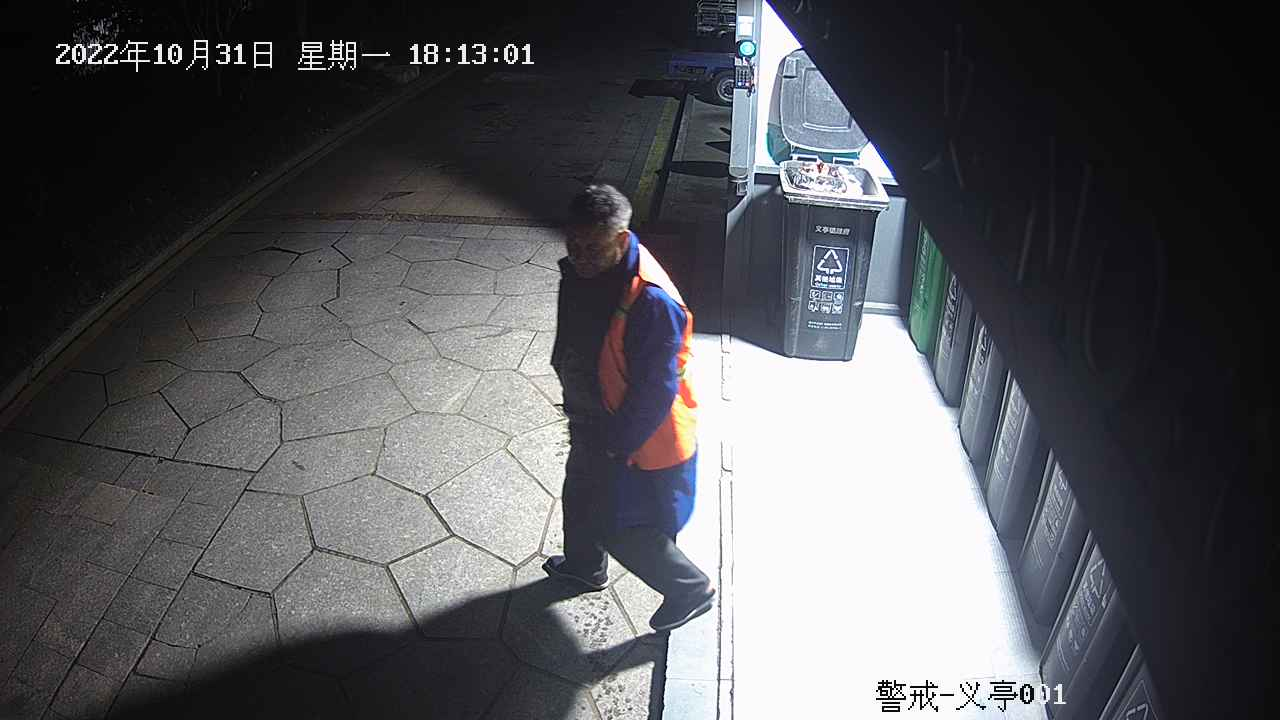worker: (539, 180, 716, 633)
